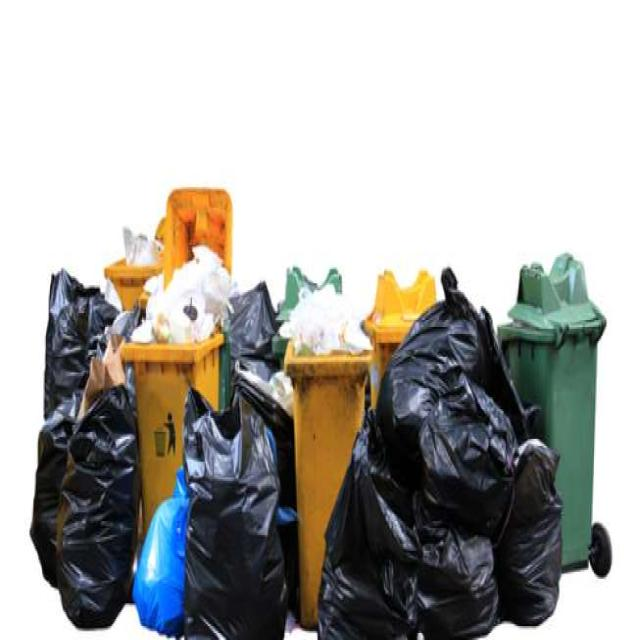sampah-detection: (319, 262, 577, 638), (33, 268, 143, 640), (179, 381, 291, 640), (274, 262, 372, 363), (136, 470, 194, 640), (137, 258, 234, 348)
